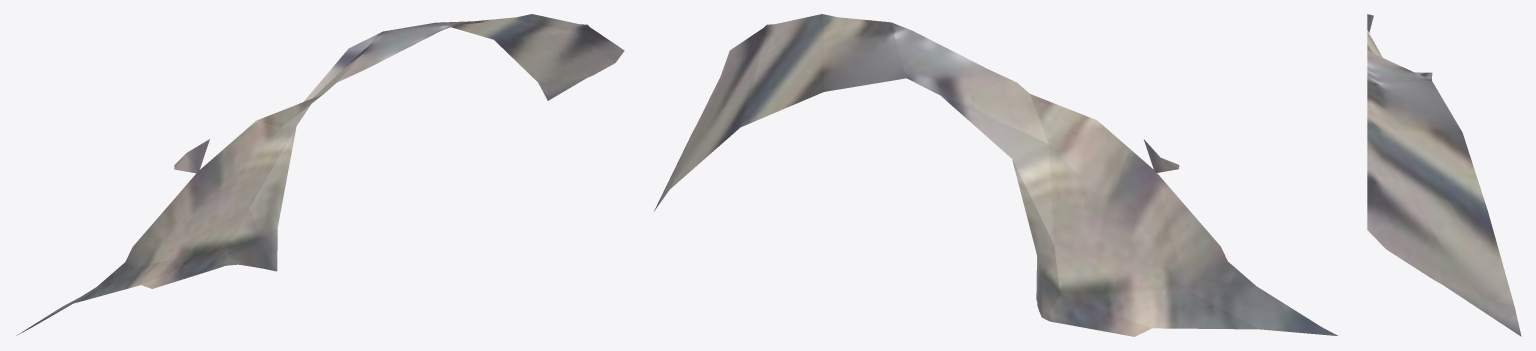
The model's file is Tile_+003_+007_L21_0002300.glb.
3 views of the same model, side by side, from view 1: azimuth 30°, elevation 25°; view 2: azimuth 150°, elevation 25°; view 3: azimuth 270°, elevation 25° (orthographic).
Parts seen in each view (by area): view 1: rtc; view 2: rtc; view 3: rtc.
Boxes of the visible parts, <box> form: rtc: <box>16,14,624,335</box>; rtc: <box>654,14,1337,336</box>; rtc: <box>1367,14,1521,336</box>.
Size of the model in its own units: 23.73 by 8.3 by 5.17.
Materials: 1 (1 with a texture image).
